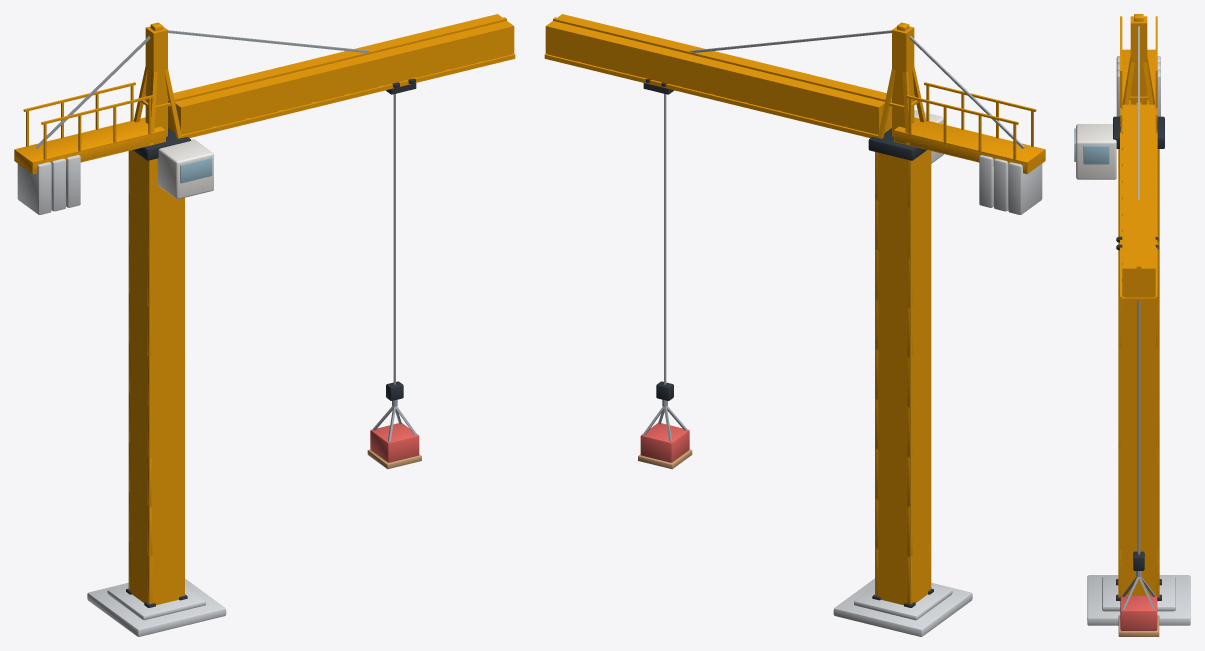
The model's file is VEH_TOWER_CRANE_A_v004.glb.
3 views of the same model, side by side, from view 1: azimuth 30°, elevation 25°; view 2: azimuth 150°, elevation 25°; view 3: azimuth 270°, elevation 25° (orthographic).
Parts seen in each view (by area): view 1: VEH_TOWER_CRANE_A_MAST_LOW, VEH_TOWER_CRANE_A_JIB_LOW, VEH_TOWER_CRANE_A_COUNTERJIB, VEH_TOWER_CRANE_A_BASE, VEH_TOWER_CRANE_A_JIB, VEH_TOWER_CRANE_A_SLEW, VEH_TOWER_CRANE_A_COUNTERWEIGHT, VEH_TOWER_CRANE_A_COUNTERJIB_LOW, VEH_TOWER_CRANE_A_LOAD, VEH_TOWER_CRANE_A_PEAK_LOW, VEH_TOWER_CRANE_A_PEAK, VEH_TOWER_CRANE_A_TIES (+1 smaller); view 2: VEH_TOWER_CRANE_A_MAST_LOW, VEH_TOWER_CRANE_A_JIB_LOW, VEH_TOWER_CRANE_A_COUNTERJIB, VEH_TOWER_CRANE_A_BASE, VEH_TOWER_CRANE_A_JIB, VEH_TOWER_CRANE_A_COUNTERWEIGHT, VEH_TOWER_CRANE_A_COUNTERJIB_LOW, VEH_TOWER_CRANE_A_LOAD, VEH_TOWER_CRANE_A_PEAK_LOW, VEH_TOWER_CRANE_A_PEAK, VEH_TOWER_CRANE_A_TIES, VEH_TOWER_CRANE_A_SLEW (+1 smaller); view 3: VEH_TOWER_CRANE_A_MAST_LOW, VEH_TOWER_CRANE_A_JIB_LOW, VEH_TOWER_CRANE_A_BASE, VEH_TOWER_CRANE_A_SLEW, VEH_TOWER_CRANE_A_JIB, VEH_TOWER_CRANE_A_LOAD, VEH_TOWER_CRANE_A_PEAK_LOW, VEH_TOWER_CRANE_A_CABLE, VEH_TOWER_CRANE_A_COUNTERJIB, VEH_TOWER_CRANE_A_PEAK, VEH_TOWER_CRANE_A_COUNTERJIB_LOW, VEH_TOWER_CRANE_A_COUNTERWEIGHT (+3 smaller).
Boxes of the visible parts, <box> form: VEH_TOWER_CRANE_A_MAST_LOW: <box>128,150,184,605</box>; VEH_TOWER_CRANE_A_JIB_LOW: <box>168,14,514,134</box>; VEH_TOWER_CRANE_A_COUNTERJIB: <box>15,82,164,172</box>; VEH_TOWER_CRANE_A_BASE: <box>87,578,226,636</box>; VEH_TOWER_CRANE_A_JIB: <box>174,17,515,137</box>; VEH_TOWER_CRANE_A_SLEW: <box>133,128,213,199</box>; VEH_TOWER_CRANE_A_COUNTERWEIGHT: <box>17,155,80,214</box>; VEH_TOWER_CRANE_A_COUNTERJIB_LOW: <box>14,117,165,174</box>; VEH_TOWER_CRANE_A_LOAD: <box>367,406,421,469</box>; VEH_TOWER_CRANE_A_PEAK_LOW: <box>145,26,167,136</box>; VEH_TOWER_CRANE_A_PEAK: <box>133,22,181,145</box>; VEH_TOWER_CRANE_A_TIES: <box>35,30,370,148</box>; VEH_TOWER_CRANE_A_MAST_LOW: <box>875,150,931,605</box>; VEH_TOWER_CRANE_A_JIB_LOW: <box>545,14,891,134</box>; VEH_TOWER_CRANE_A_COUNTERJIB: <box>895,82,1044,172</box>; VEH_TOWER_CRANE_A_BASE: <box>833,578,972,636</box>; VEH_TOWER_CRANE_A_JIB: <box>544,17,885,137</box>; VEH_TOWER_CRANE_A_COUNTERWEIGHT: <box>979,155,1042,214</box>; VEH_TOWER_CRANE_A_COUNTERJIB_LOW: <box>894,117,1045,174</box>; VEH_TOWER_CRANE_A_LOAD: <box>638,406,692,469</box>; VEH_TOWER_CRANE_A_PEAK_LOW: <box>892,26,914,136</box>; VEH_TOWER_CRANE_A_PEAK: <box>878,22,926,145</box>; VEH_TOWER_CRANE_A_TIES: <box>689,30,1024,148</box>; VEH_TOWER_CRANE_A_SLEW: <box>868,110,943,163</box>; VEH_TOWER_CRANE_A_MAST_LOW: <box>1118,149,1159,597</box>; VEH_TOWER_CRANE_A_JIB_LOW: <box>1122,104,1155,297</box>; VEH_TOWER_CRANE_A_BASE: <box>1087,575,1190,625</box>; VEH_TOWER_CRANE_A_SLEW: <box>1074,116,1164,179</box>; VEH_TOWER_CRANE_A_JIB: <box>1120,102,1157,300</box>; VEH_TOWER_CRANE_A_LOAD: <box>1118,576,1159,636</box>; VEH_TOWER_CRANE_A_PEAK_LOW: <box>1130,16,1147,104</box>; VEH_TOWER_CRANE_A_CABLE: <box>1137,300,1140,554</box>; VEH_TOWER_CRANE_A_COUNTERJIB: <box>1120,16,1157,120</box>; VEH_TOWER_CRANE_A_PEAK: <box>1120,14,1157,132</box>; VEH_TOWER_CRANE_A_COUNTERJIB_LOW: <box>1120,49,1157,126</box>; VEH_TOWER_CRANE_A_COUNTERWEIGHT: <box>1116,56,1160,116</box>.
Size of the model in its own units: 15.23 by 17.57 by 3.15.
